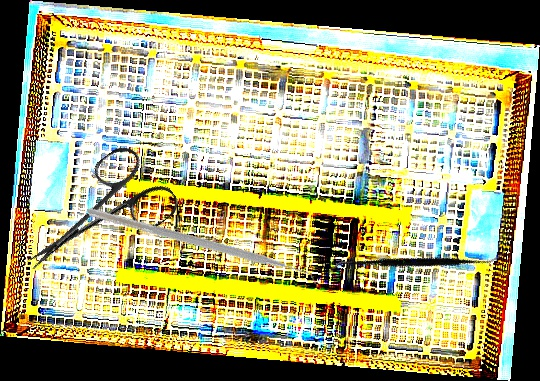Chopper: (87, 154, 319, 348)
Iris Scissors: (4, 137, 184, 302)
Spatula Surgical: (326, 183, 505, 344)
